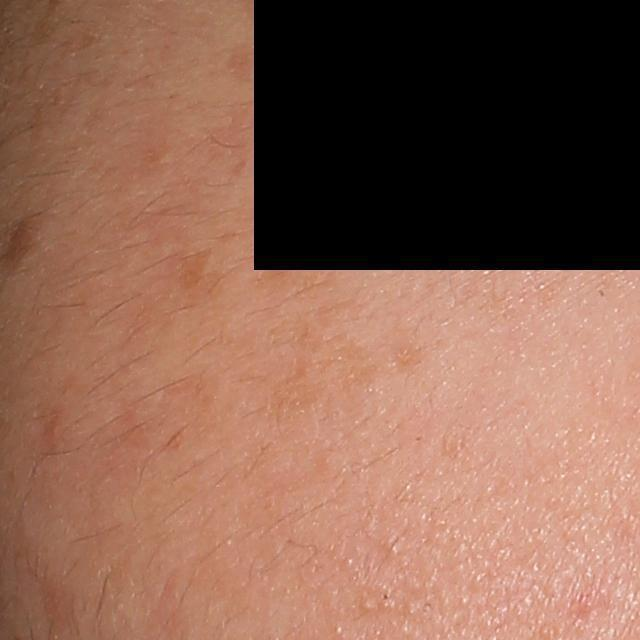melasma: (251, 244, 337, 303), (1, 214, 42, 277), (177, 245, 215, 305)
